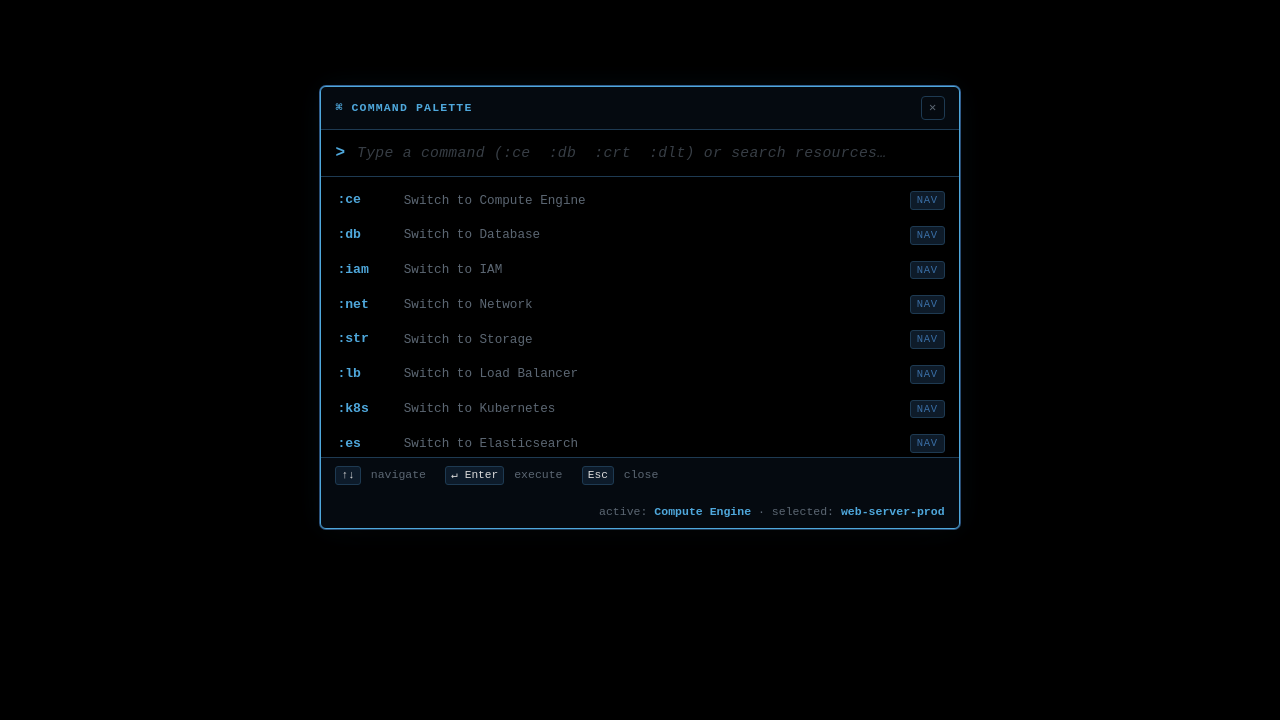
Test: CommandPalette › filters command list when typing in input
Type ":db" into the field with placeholder "Type a command (:ce :db :crt :dlt) or search resources…". click: coordinates (649, 153)
box: [353,142,945,164]
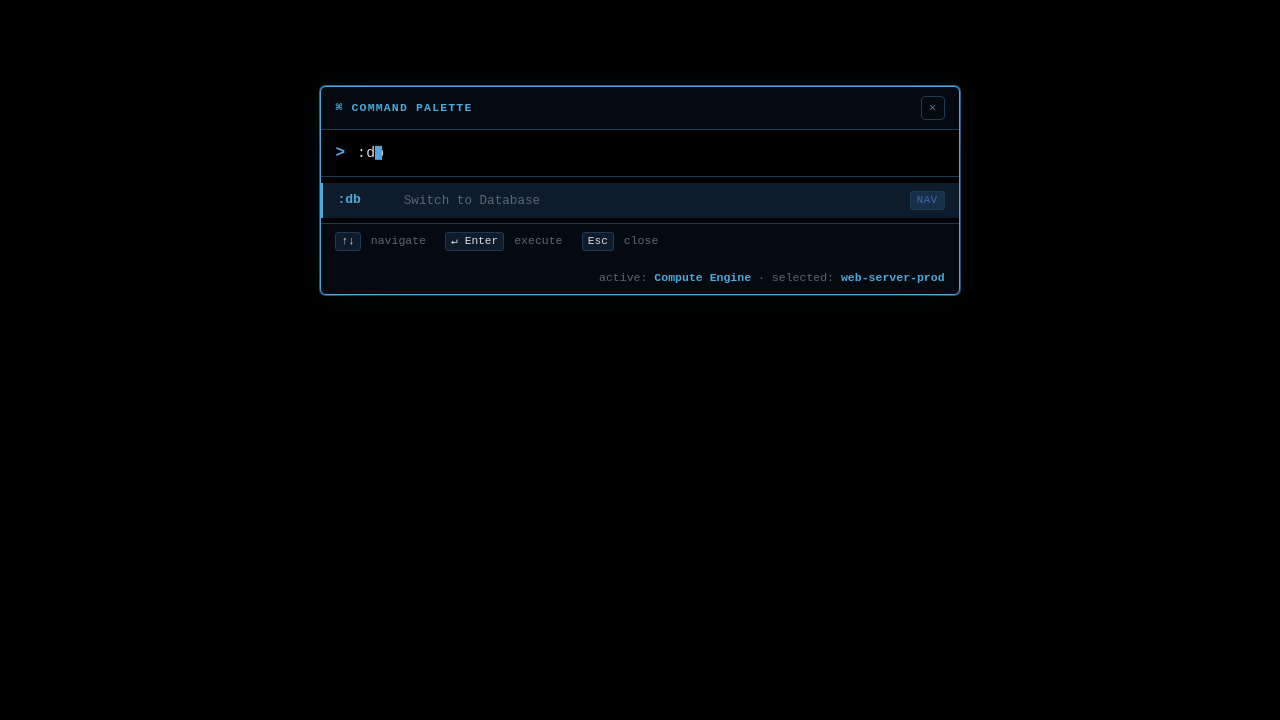
Expected: the text ":db" is shown, [337,192,361,207]
Now the option ":ce" is gone
Now the option ":iam" is gone
